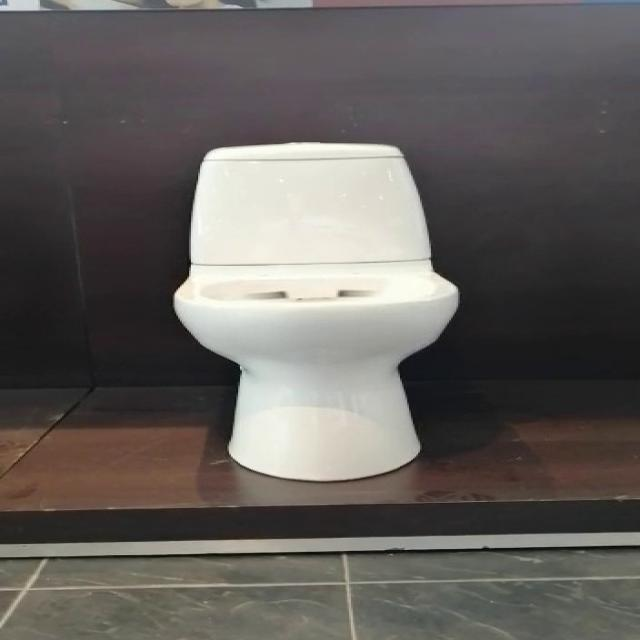toilet: (164, 136, 466, 484)
